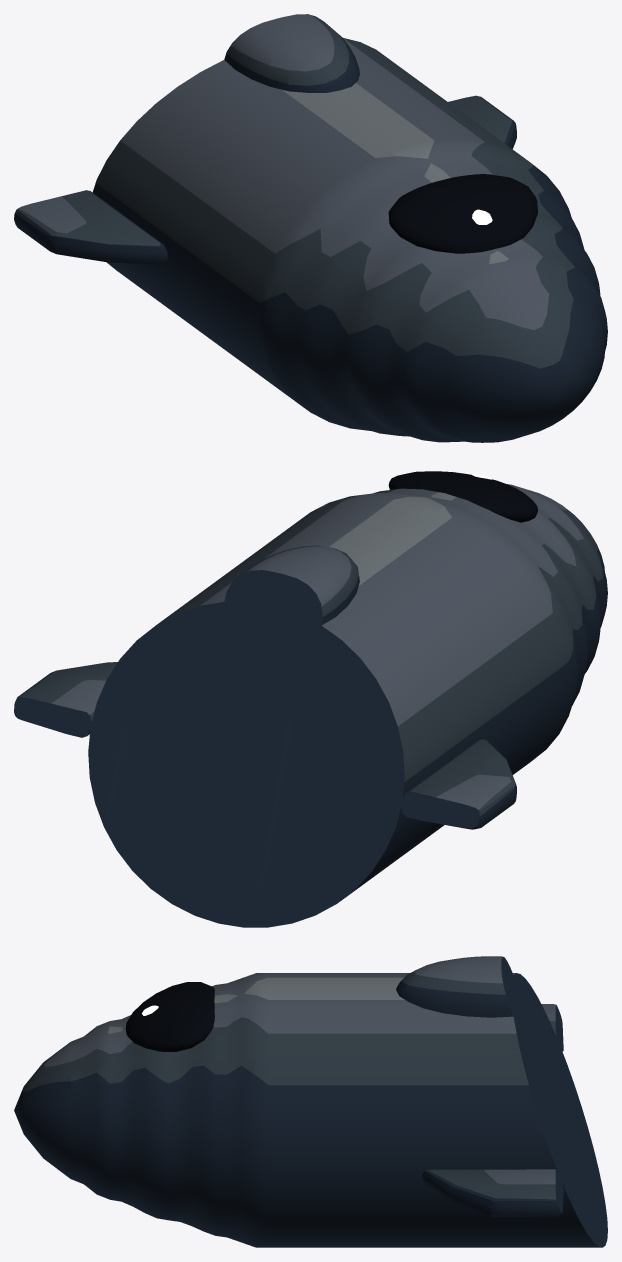
Rendered from coral_sub_base.glb.
The picture shows the model from 3 angles, top to bottom: view 1: azimuth 30°, elevation 25°; view 2: azimuth 150°, elevation 25°; view 3: azimuth 270°, elevation 25°; orthographic projection. The views are drawn at different scales.
Parts seen in each view (by area): view 1: coral_sub_base; view 2: coral_sub_base; view 3: coral_sub_base.
Boxes of the visible parts, x1,y1,x2,y2 form: coral_sub_base: [14, 14, 607, 442]; coral_sub_base: [14, 471, 607, 927]; coral_sub_base: [14, 956, 607, 1247].
Bounding box in the file's own units: 24 × 15 × 30.37.
